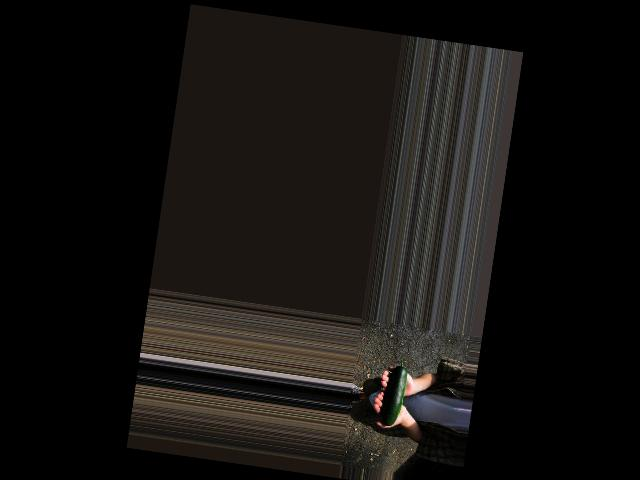cucumber: (380, 356, 409, 426)
